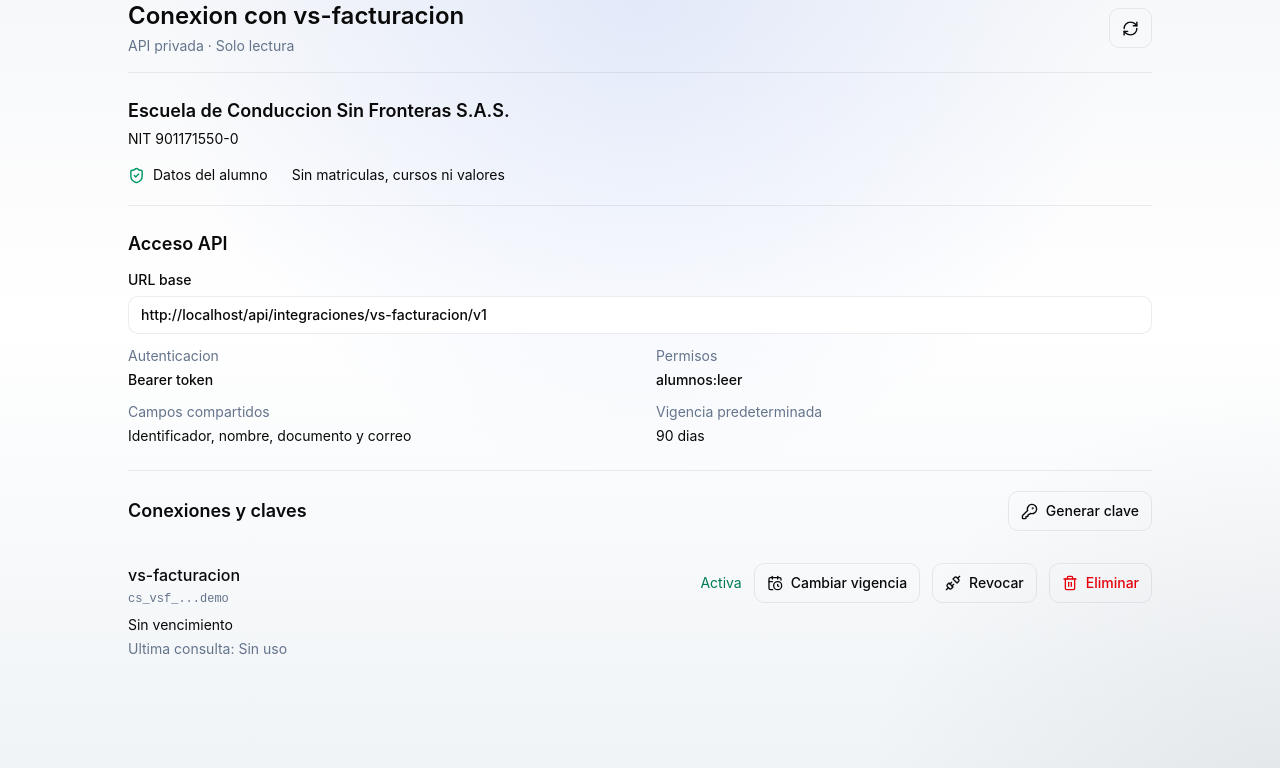
Test: conexion de facturacion › interpreta la fecha personalizada en Bogota y permite limitar una clave permanente
Click the button with aria-label "Cambiar vigencia de vs-facturacion".
click(837, 583)  # box [754,563,920,603]
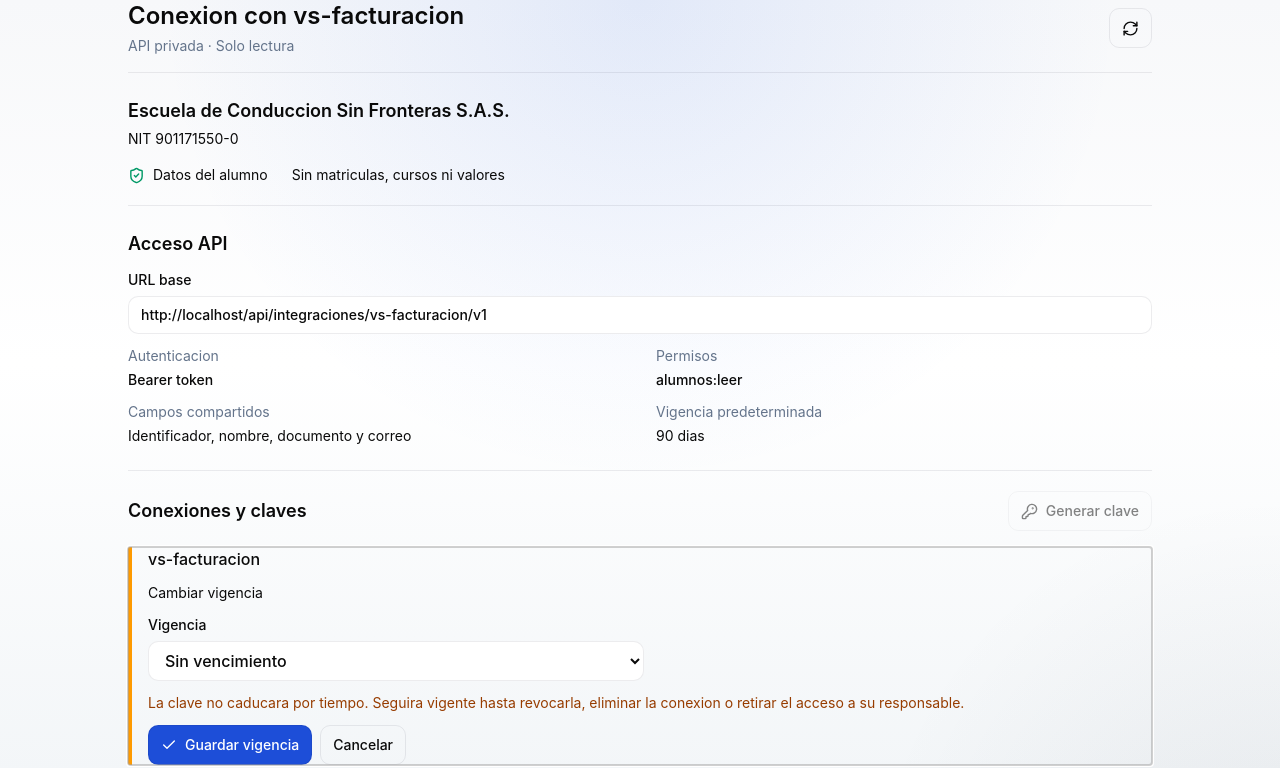
expect the dropdown labelled "Vigencia" shows "Sin vencimiento": met
Select "Fecha y hora" in the dropdown labelled "Vigencia" at (396, 661), box [148,641,644,681]
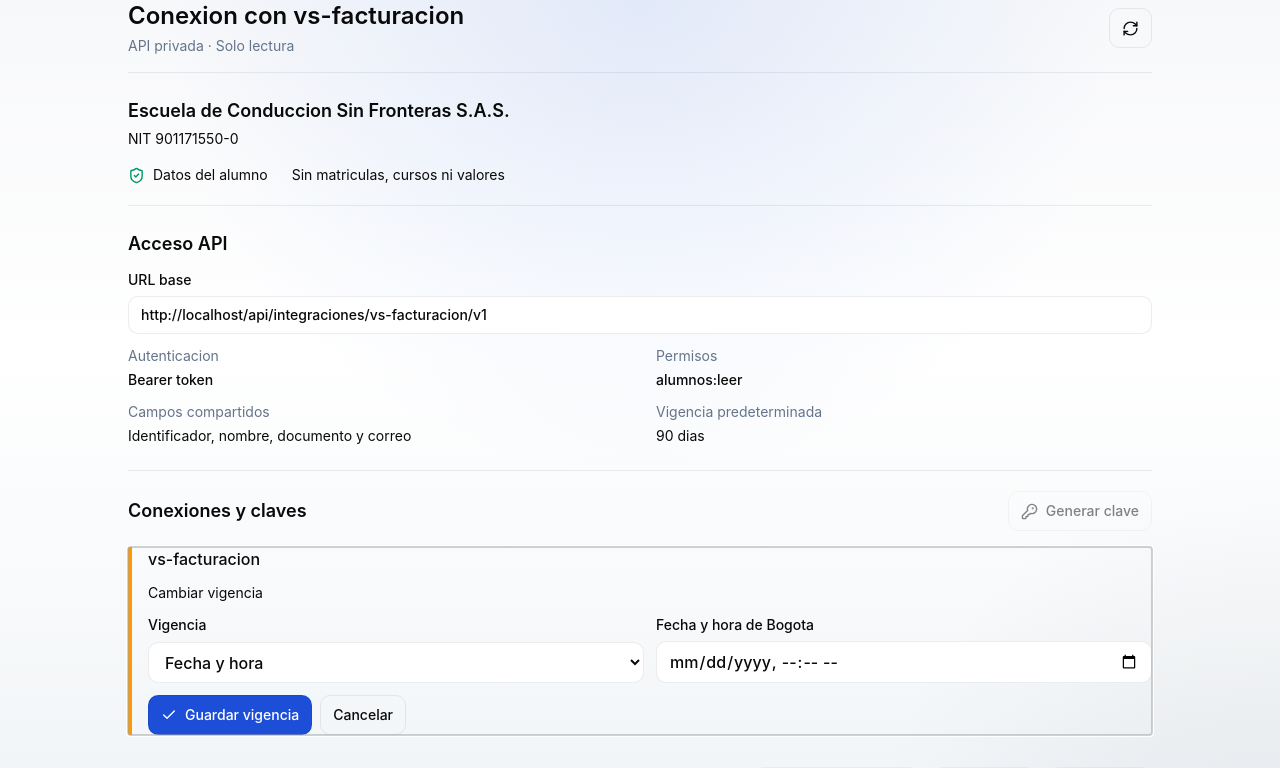
Type "2099-12-30T23:59" into the field labelled "Fecha y hora de Bogota".
click(904, 662); type("2099-12-30T23:59")  # box [656,641,1152,683]
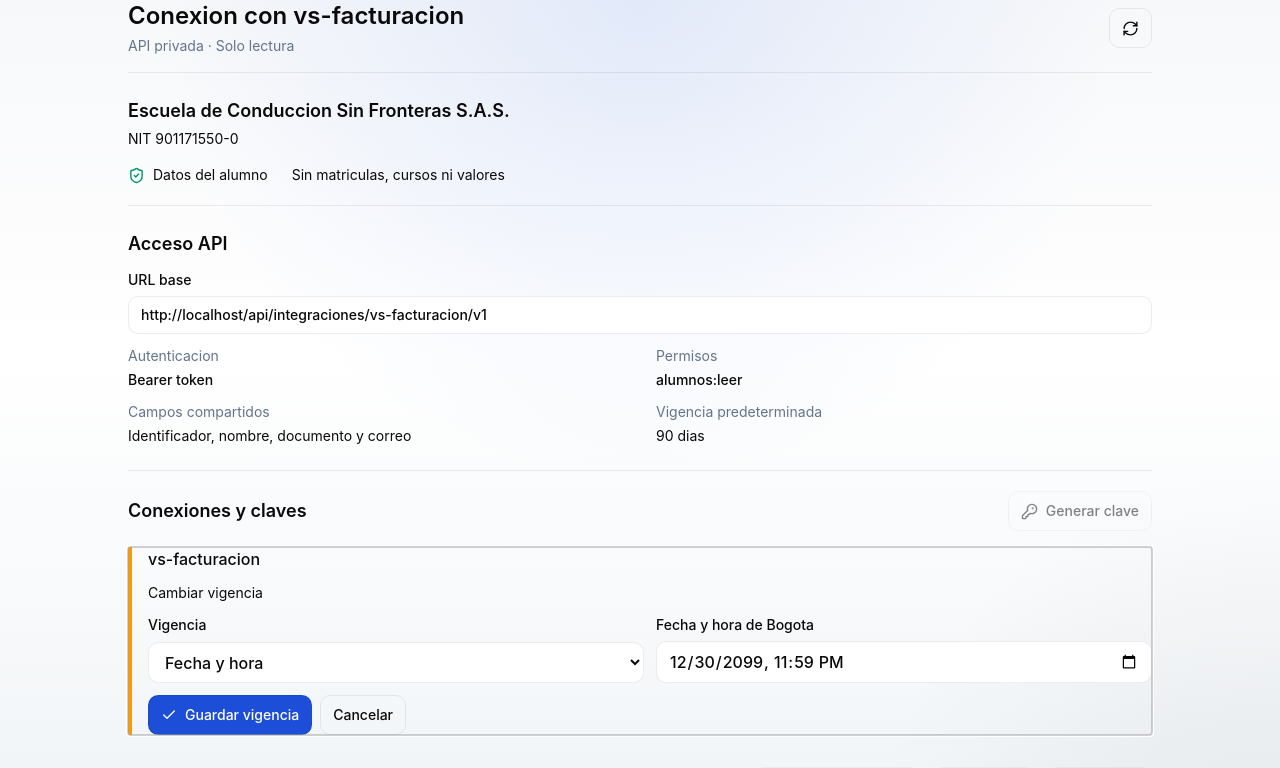
Click the button "Guardar vigencia".
click(230, 715)  # box [148,695,312,735]
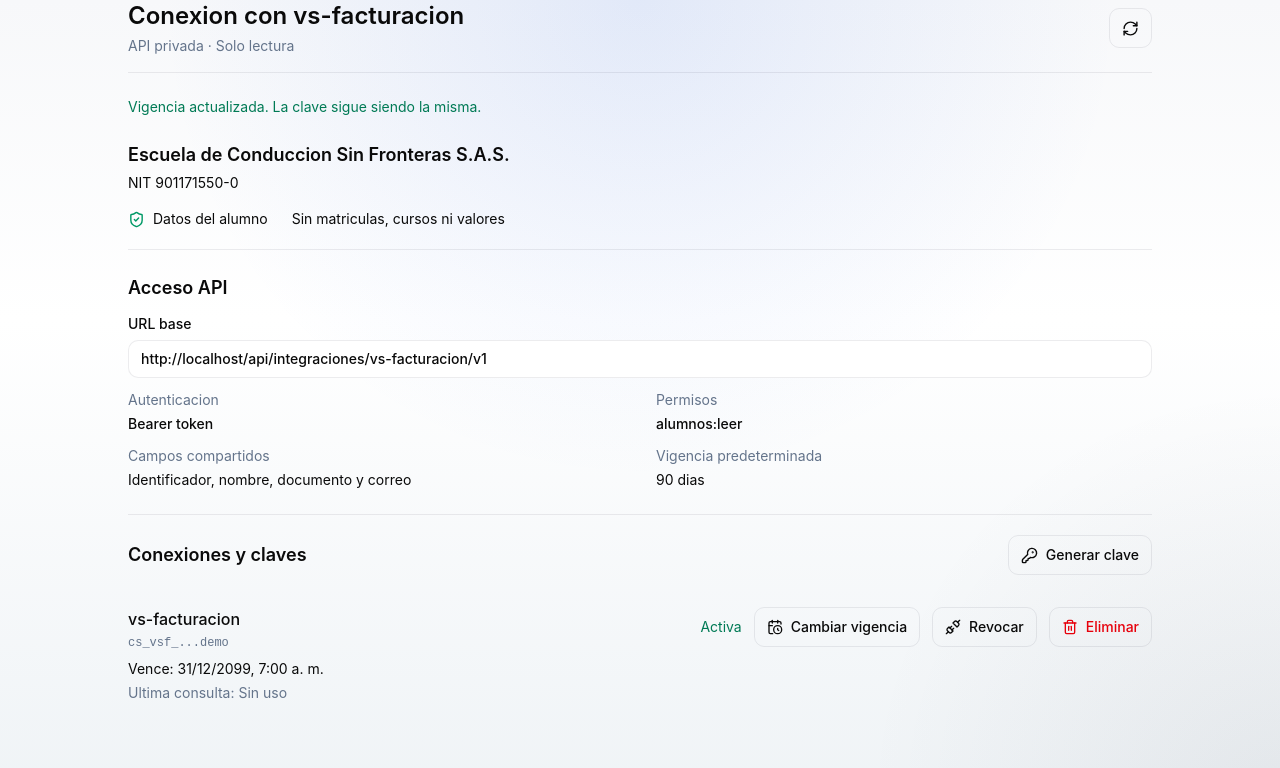
expect the text "Vigencia actualizada. La clave sigue siendo la misma." is shown: met, box [128,98,481,115]
